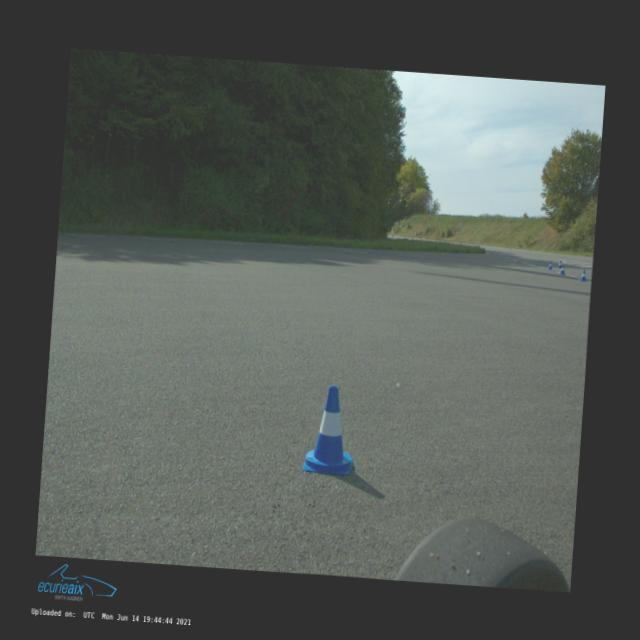blue_cone: (302, 384, 358, 476), (580, 270, 587, 282), (560, 264, 566, 274), (548, 260, 552, 270), (558, 260, 562, 268)
